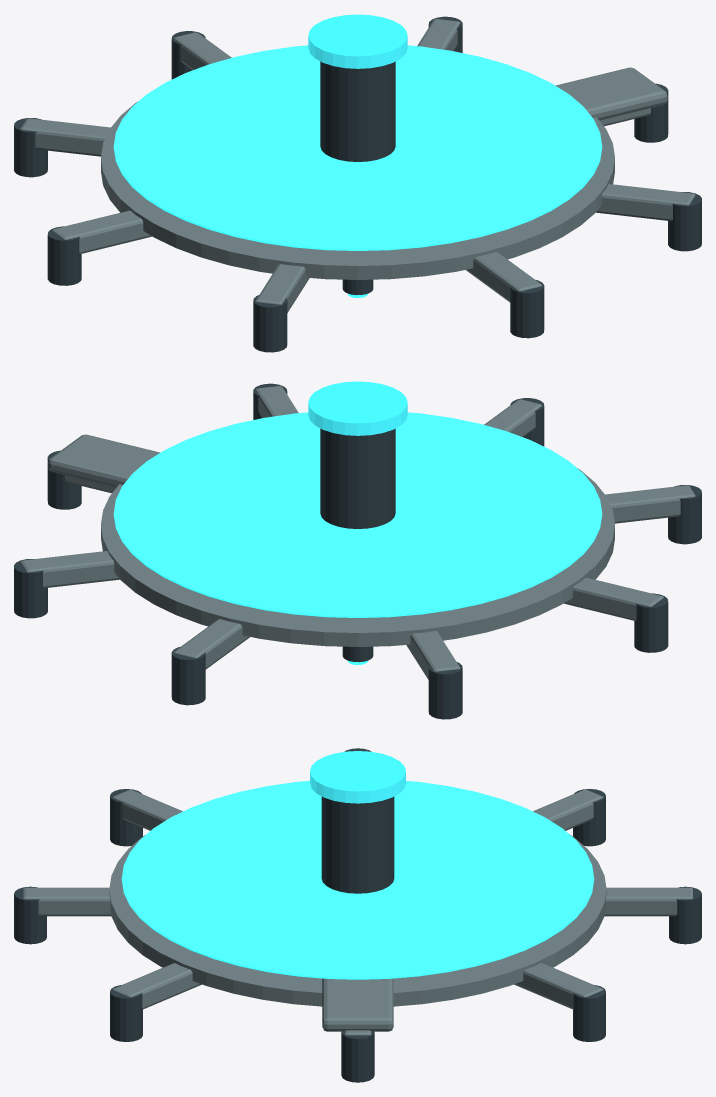
File: tempest-ozone-base-v1.glb
3 renders of one model, top to bottom at view 1: azimuth 30°, elevation 25°; view 2: azimuth 150°, elevation 25°; view 3: azimuth 270°, elevation 25°, orthographic. The views are drawn at different scales.
Visible parts, largest first — view 1: tempest_ozone_base__lod0__Tempest emissive guidance, tempest_ozone_base__lod0__Tempest aerospace shell, tempest_ozone_base__lod0__Tempest structural frame, tempest_ozone_base__lod0__Tempest recessed glazing; view 2: tempest_ozone_base__lod0__Tempest emissive guidance, tempest_ozone_base__lod0__Tempest aerospace shell, tempest_ozone_base__lod0__Tempest structural frame, tempest_ozone_base__lod0__Tempest recessed glazing; view 3: tempest_ozone_base__lod0__Tempest emissive guidance, tempest_ozone_base__lod0__Tempest aerospace shell, tempest_ozone_base__lod0__Tempest structural frame, tempest_ozone_base__lod0__Tempest recessed glazing.
Part boxes in pixels (x1,y1,x2,y2): tempest_ozone_base__lod0__Tempest emissive guidance: [113, 45, 602, 297]; tempest_ozone_base__lod0__Tempest aerospace shell: [20, 19, 695, 312]; tempest_ozone_base__lod0__Tempest structural frame: [14, 16, 701, 352]; tempest_ozone_base__lod0__Tempest recessed glazing: [308, 14, 407, 68]; tempest_ozone_base__lod0__Tempest emissive guidance: [113, 412, 602, 664]; tempest_ozone_base__lod0__Tempest aerospace shell: [20, 386, 695, 679]; tempest_ozone_base__lod0__Tempest structural frame: [14, 383, 701, 719]; tempest_ozone_base__lod0__Tempest recessed glazing: [308, 381, 407, 435]; tempest_ozone_base__lod0__Tempest emissive guidance: [121, 780, 594, 979]; tempest_ozone_base__lod0__Tempest aerospace shell: [23, 789, 692, 1035]; tempest_ozone_base__lod0__Tempest structural frame: [14, 748, 701, 1082]; tempest_ozone_base__lod0__Tempest recessed glazing: [310, 751, 405, 803].
Bounding box in the file's own units: 830 × 332 × 830.
